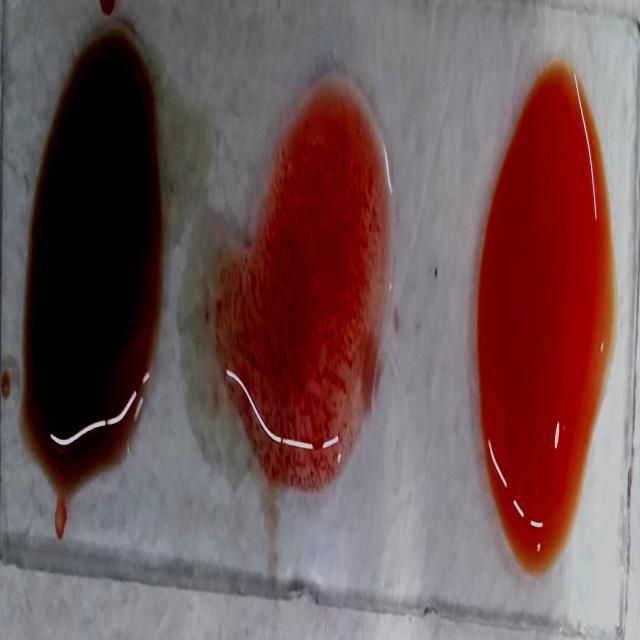D: (232, 78, 387, 496)
